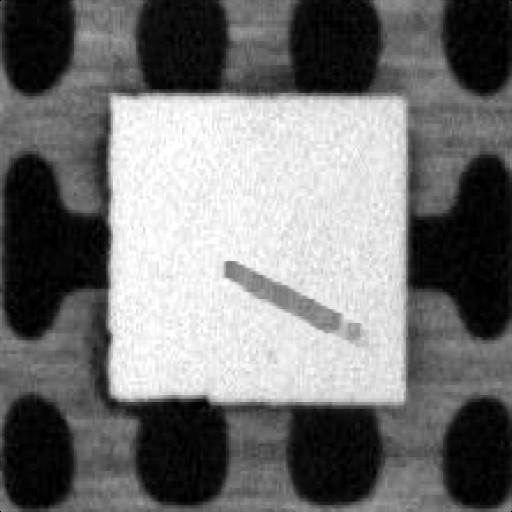DIE_INK: (219, 254, 360, 337)
